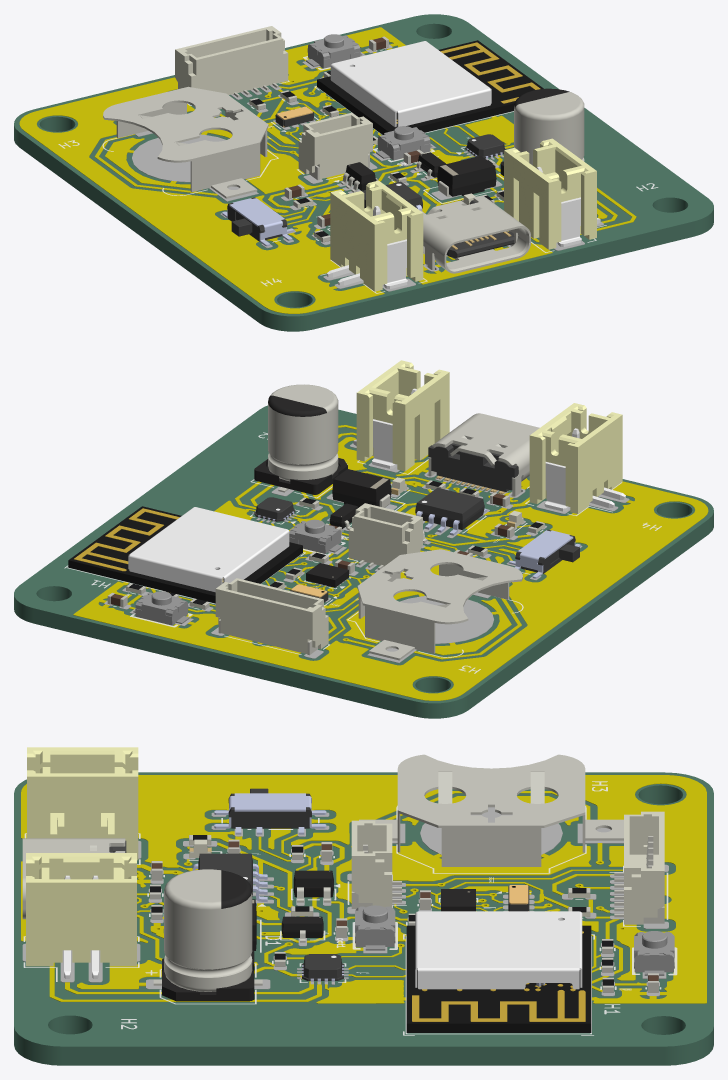
Rendered from Desai_Mochi_v2.glb.
3 views of the same model, one above another, from view 1: azimuth 30°, elevation 25°; view 2: azimuth 150°, elevation 25°; view 3: azimuth 270°, elevation 25° (orthographic). The views are drawn at different scales.
Parts seen in each view (by area): view 1: =>[0:1:1:417], =>[0:1:1:413], NAUO1 (×2), =>[0:1:1:400], NAUO2, =>[0:1:1:18], =>[0:1:1:12], NAUO335, =>[0:1:1:412], =>[0:1:1:414], =>[0:1:1:14], =>[0:1:1:402] (×2) (+8 smaller); view 2: =>[0:1:1:417], =>[0:1:1:413], NAUO1 (×2), =>[0:1:1:400], NAUO2, =>[0:1:1:412], =>[0:1:1:18], =>[0:1:1:12], NAUO335, =>[0:1:1:414], =>[0:1:1:14], =>[0:1:1:402] (×2) (+7 smaller); view 3: =>[0:1:1:417], =>[0:1:1:413], NAUO1 (×2), =>[0:1:1:400], NAUO2, =>[0:1:1:412], NAUO335, =>[0:1:1:414], =>[0:1:1:12], =>[0:1:1:14], =>[0:1:1:416], =>[0:1:1:396] (+9 smaller).
Boxes of the visible parts, x1,y1,x2,y2 form: =>[0:1:1:417]: (14,14,713,331); =>[0:1:1:413]: (19,27,636,313); NAUO1 (×2): (326,138,600,291); =>[0:1:1:400]: (103,86,268,198); NAUO2: (330,41,491,127); =>[0:1:1:18]: (420,196,530,273); =>[0:1:1:12]: (175,26,288,97); NAUO335: (317,40,543,134); =>[0:1:1:412]: (500,88,584,175); =>[0:1:1:414]: (132,44,603,291); =>[0:1:1:14]: (298,112,372,180); =>[0:1:1:402] (×2): (306,34,432,160); =>[0:1:1:417]: (14,405,713,718); =>[0:1:1:413]: (73,425,708,700); NAUO1 (×2): (353,360,625,513); =>[0:1:1:400]: (357,549,522,660); NAUO2: (128,507,289,592); =>[0:1:1:412]: (254,384,347,494); =>[0:1:1:18]: (428,413,539,496); =>[0:1:1:12]: (215,578,328,655); NAUO335: (68,506,302,603); =>[0:1:1:414]: (104,443,629,663); =>[0:1:1:14]: (348,503,422,571); =>[0:1:1:402] (×2): (133,519,342,625); =>[0:1:1:417]: (14,772,713,1065); =>[0:1:1:413]: (21,775,706,1003); NAUO1 (×2): (26,747,138,978); =>[0:1:1:400]: (359,754,623,866); NAUO2: (415,911,582,989); =>[0:1:1:412]: (153,869,262,1001); NAUO335: (406,925,591,1032); =>[0:1:1:414]: (22,807,668,996); =>[0:1:1:12]: (614,811,664,924); =>[0:1:1:14]: (351,820,401,908); =>[0:1:1:416]: (23,781,677,1035); =>[0:1:1:396]: (214,788,326,834).
Bounding box in the file's own units: 0.0464 × 0.00933 × 0.05.
